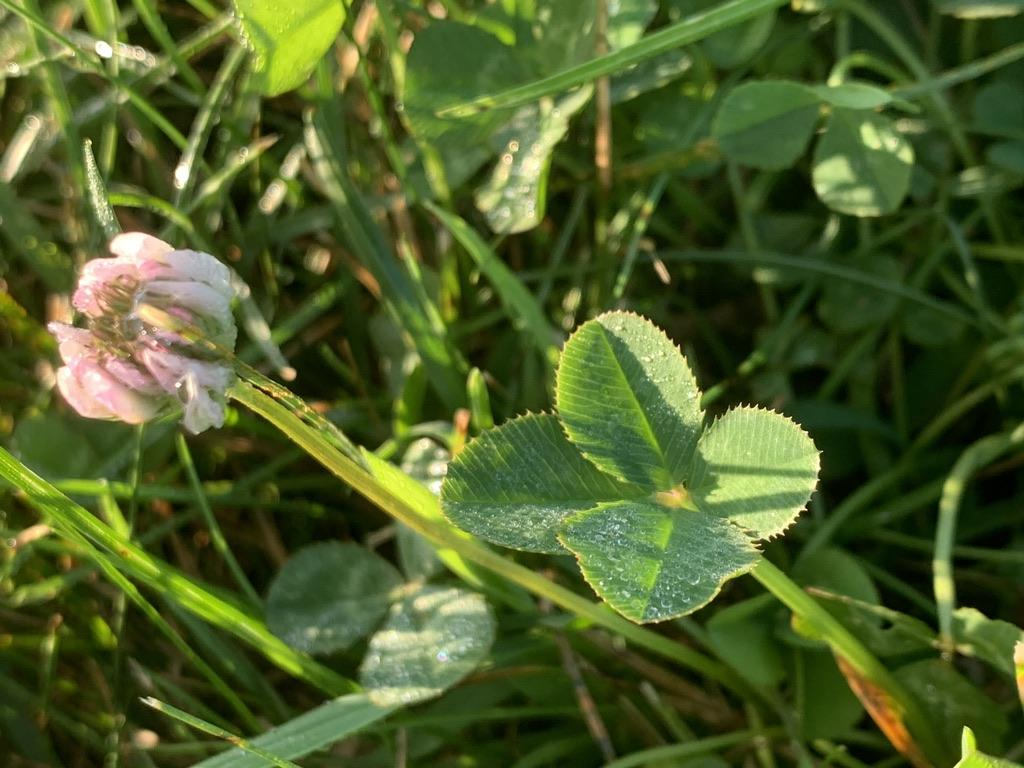4-Leaf-Clovers: (427, 152, 830, 427)
